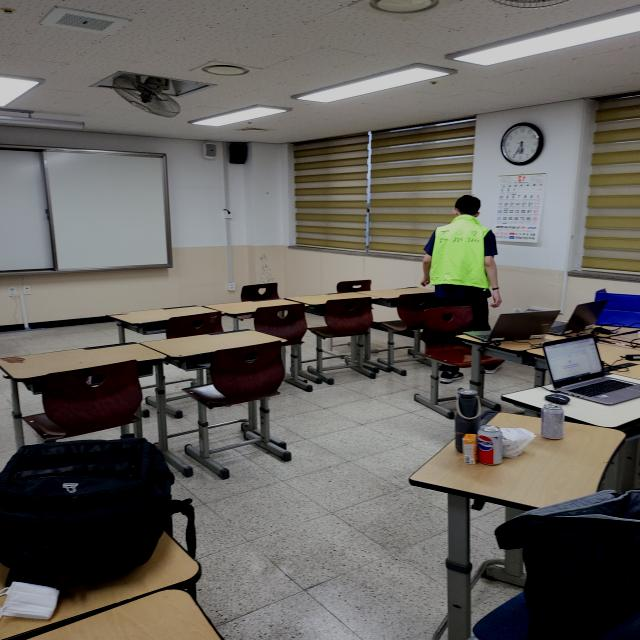weston_spy: (417, 208, 500, 293)
